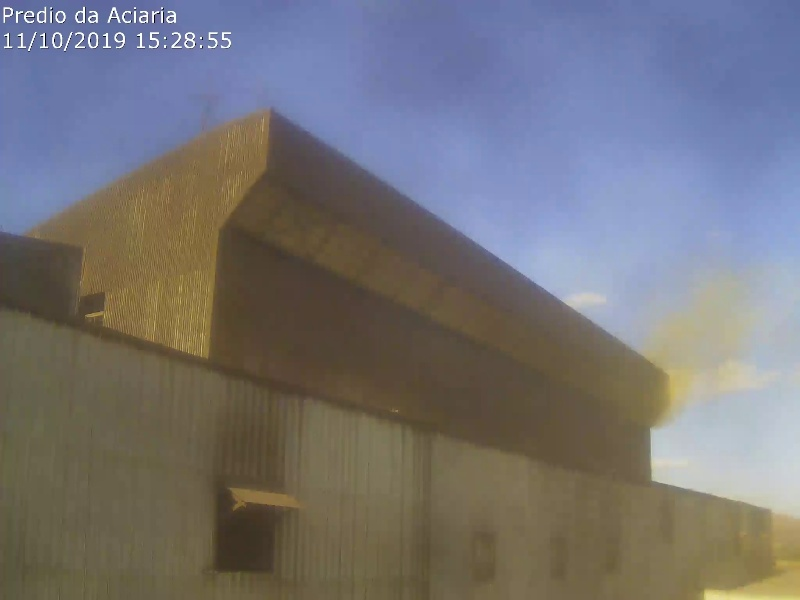bom: (260, 9, 585, 344), (1, 1, 325, 335)
ruim: (591, 214, 800, 438)
